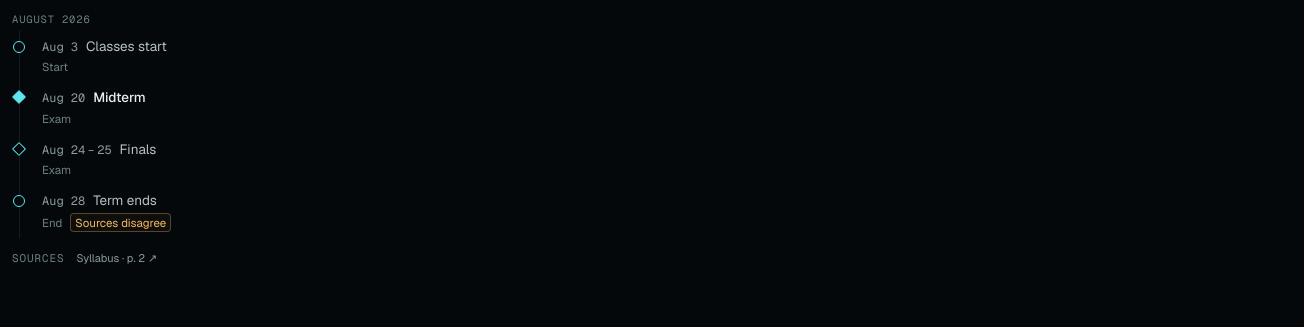
Test: temporal views › timeline: ranges stay ranges, the source passage opens on demand, conflicts are labelled
The image size is (1304, 327).
Expected: the text "Aug 24 – 25" is shown, [42,141,112,159]
Expected: the text "Sources disagree" is shown, [70,212,171,232]
Click the button "Aug 20 Midterm Exam": (64, 98) [34,81,1292,133]
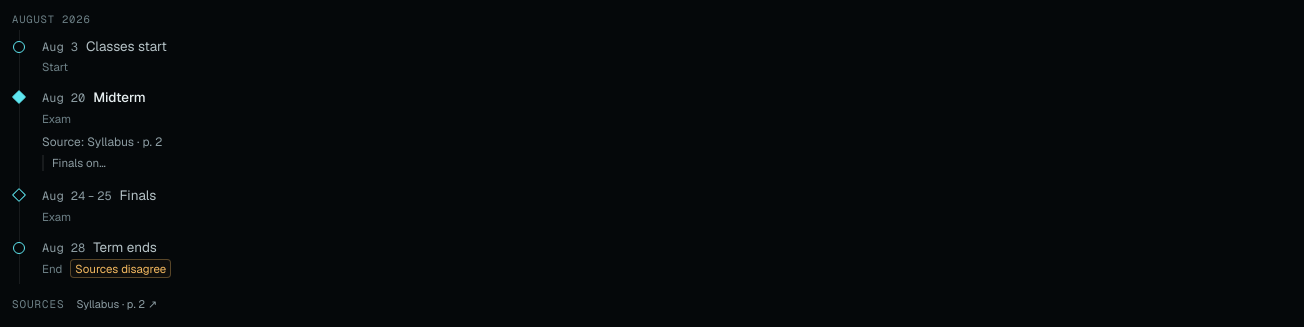
Expected: the text "Finals on…" is shown, [42,155,1284,172]
